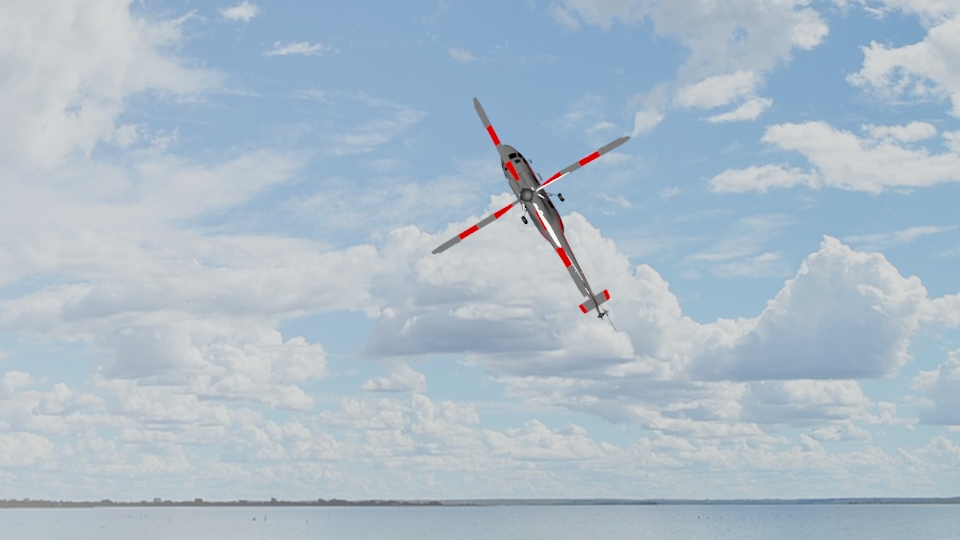heli: (434, 93, 633, 318)
